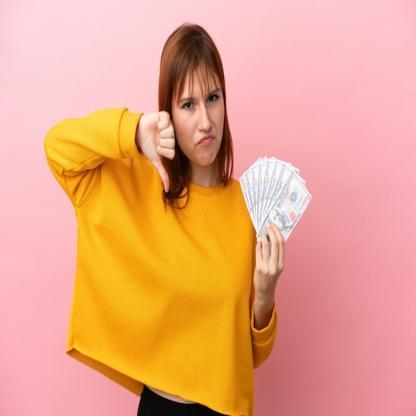thumb_down: (139, 106, 178, 197)
